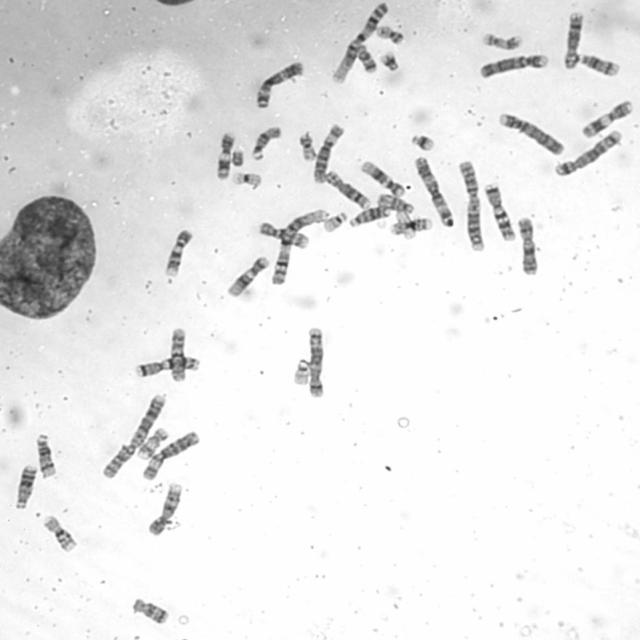A1: (328, 1, 391, 88), (268, 205, 330, 287)
A2: (98, 390, 168, 479), (455, 156, 487, 252)
A3: (411, 153, 455, 227), (252, 58, 305, 110)
B4: (496, 110, 567, 158), (476, 50, 551, 80)
B5: (550, 126, 624, 178), (304, 324, 326, 399)
C10: (256, 219, 311, 250), (167, 325, 189, 383)
C11: (578, 97, 634, 139), (213, 129, 237, 181)
C12: (223, 252, 271, 300), (358, 158, 406, 198)
C6: (139, 427, 201, 482), (311, 121, 346, 185)
C7: (481, 180, 517, 242), (132, 353, 202, 379)
C8: (322, 168, 372, 210), (560, 8, 585, 70)
C9: (144, 481, 184, 536), (161, 226, 194, 278)
D13: (12, 461, 38, 510), (346, 204, 392, 229)
D14: (574, 51, 620, 78), (34, 431, 58, 479)
D15: (248, 123, 283, 161), (374, 191, 415, 215)
E16: (40, 512, 79, 553), (387, 216, 434, 236)
E17: (134, 425, 170, 461), (480, 29, 524, 52)
E18: (128, 594, 170, 626), (353, 42, 378, 74)
F19: (394, 208, 418, 240), (230, 168, 264, 190)
F20: (373, 23, 406, 45), (296, 129, 318, 162)
G21: (407, 130, 437, 152), (378, 49, 402, 72)
G22: (320, 209, 348, 233), (290, 356, 312, 386)
X: (515, 214, 539, 276)
